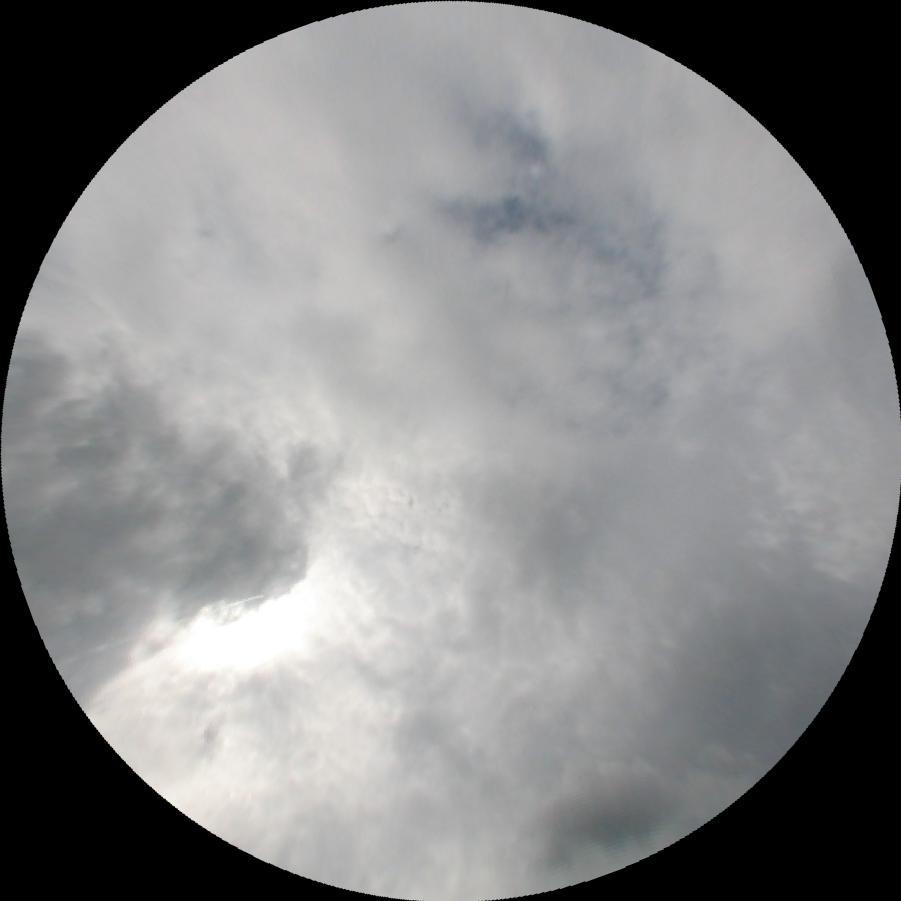parasite: (55, 591, 260, 666)
sun: (179, 587, 318, 685)
